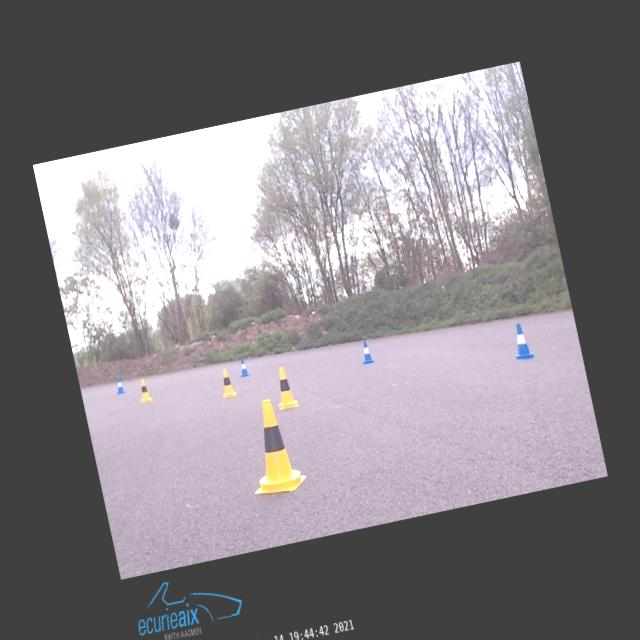blue_cone: (508, 322, 534, 359), (358, 339, 373, 364), (238, 358, 248, 376), (114, 376, 124, 393)
yellow_cone: (236, 394, 308, 498), (270, 365, 298, 409), (218, 367, 236, 397), (136, 377, 152, 402)
